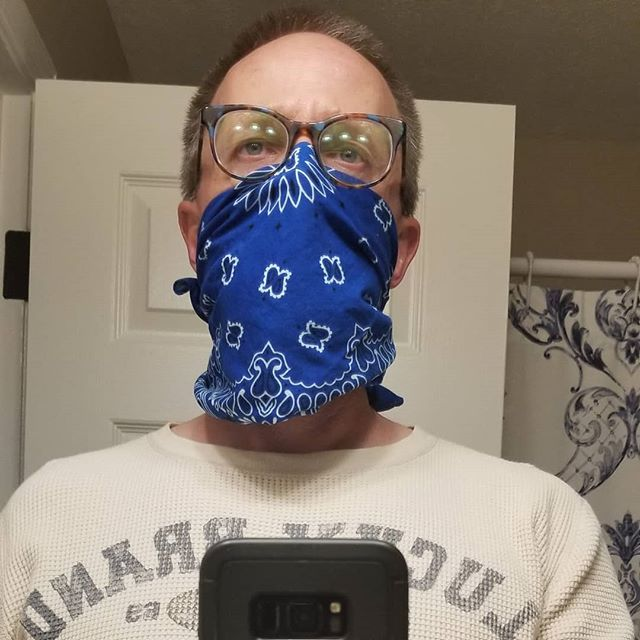homemade: (193, 157, 414, 415)
